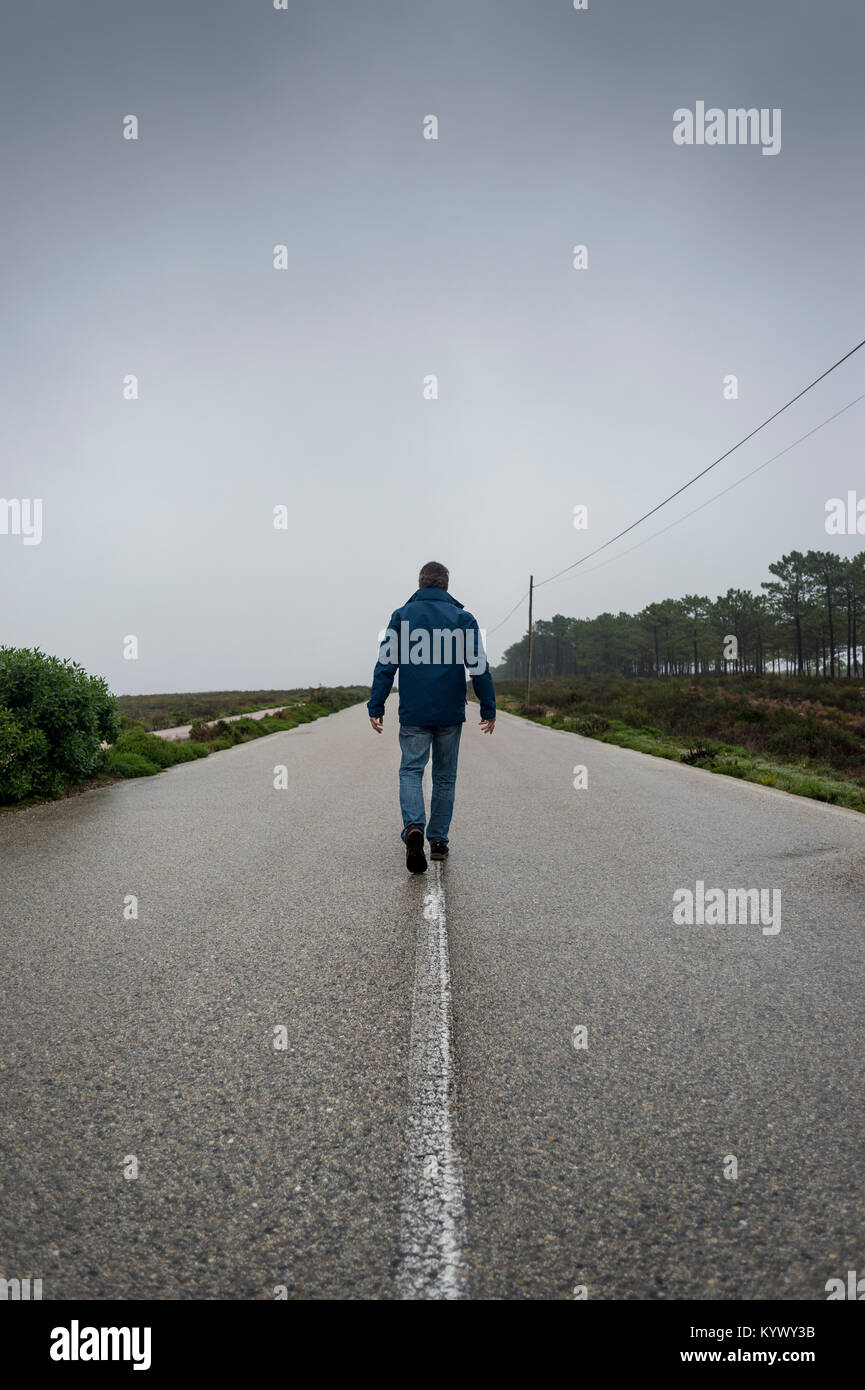Person: (349, 554, 525, 876)
